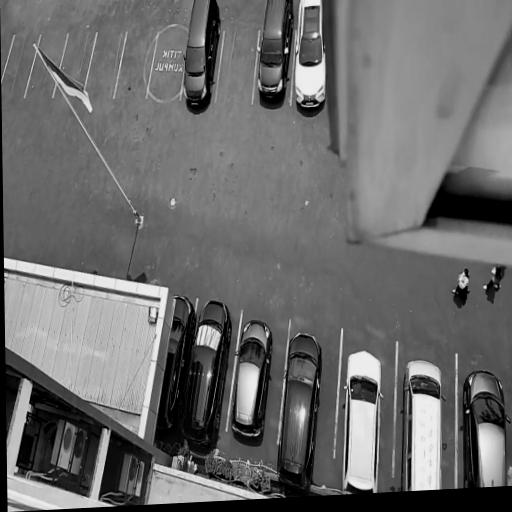Car: (271, 323, 332, 498), (180, 295, 240, 466), (329, 340, 392, 495), (394, 346, 453, 492), (455, 363, 512, 489), (225, 313, 277, 450), (155, 289, 199, 441), (176, 0, 227, 123), (288, 0, 332, 128), (253, 0, 298, 117)
Space Available: (216, 27, 259, 103), (146, 30, 189, 99), (114, 30, 157, 99), (52, 31, 96, 98), (23, 31, 67, 98), (83, 29, 125, 99), (1, 32, 39, 99), (0, 31, 13, 80)
